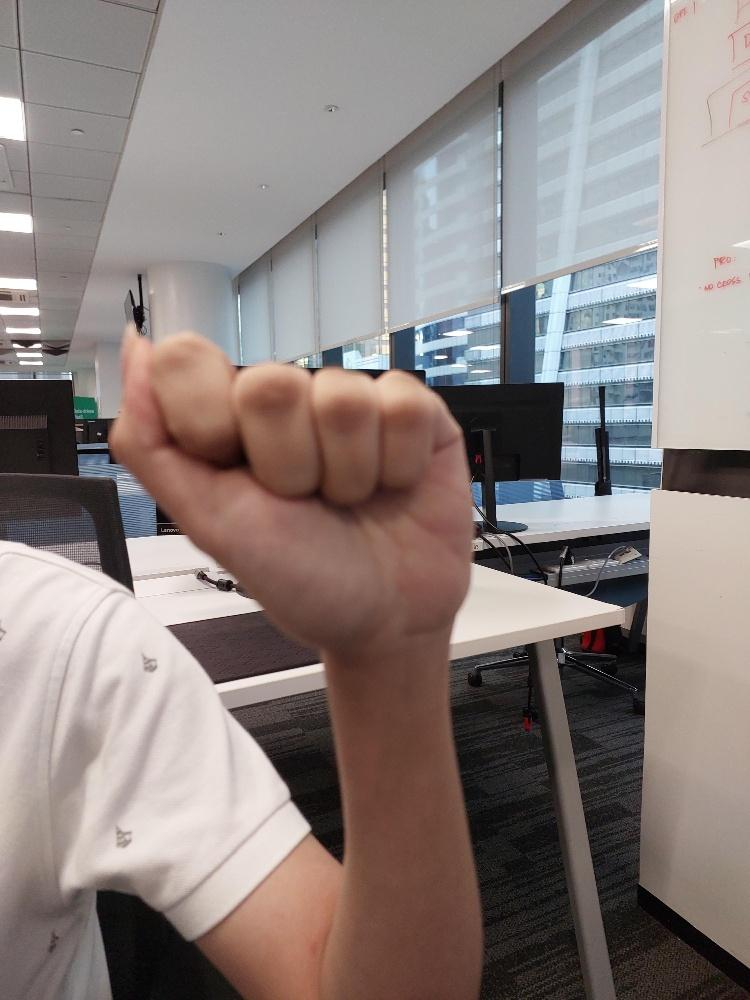a: (104, 319, 476, 659)
